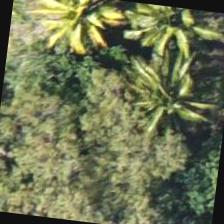Kelapa_Sawit: (123, 40, 223, 140), (32, 0, 129, 58), (128, 2, 223, 58)
